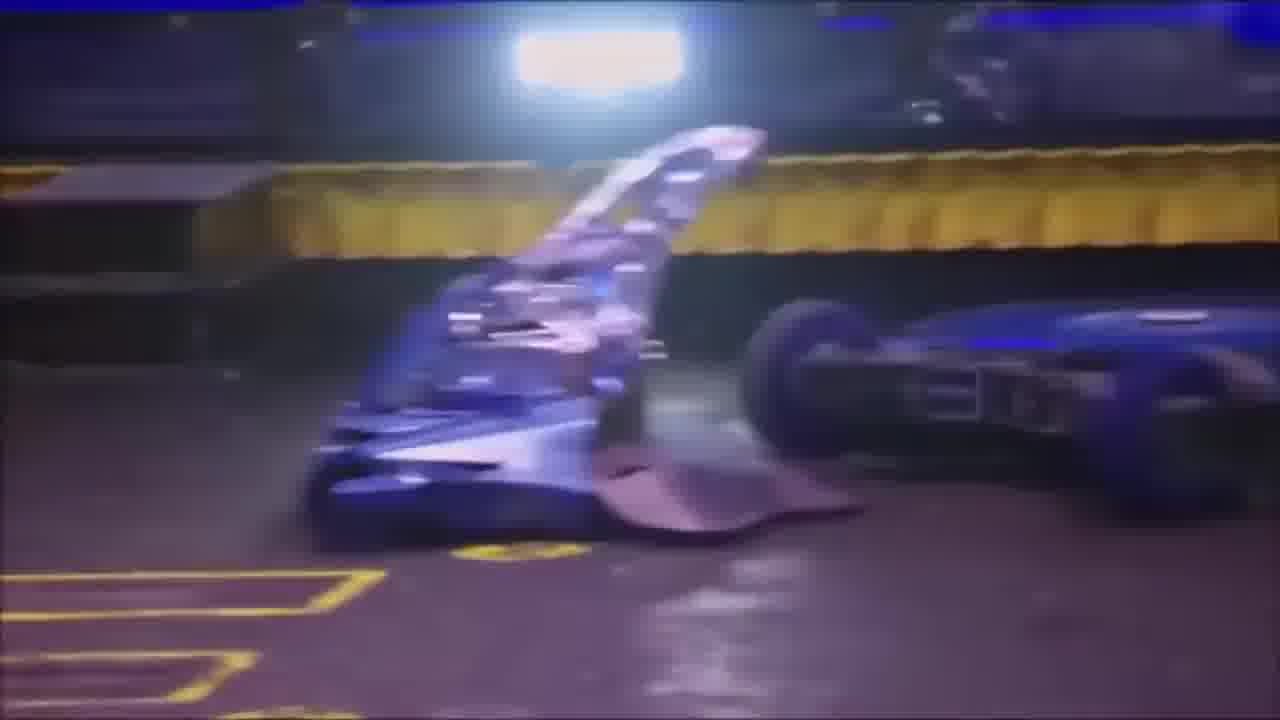combatbot: (298, 125, 762, 553), (741, 299, 1272, 527)
